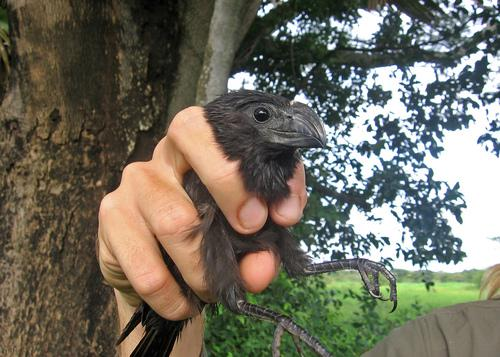004.Groove_billed_Ani: (116, 85, 398, 357)
